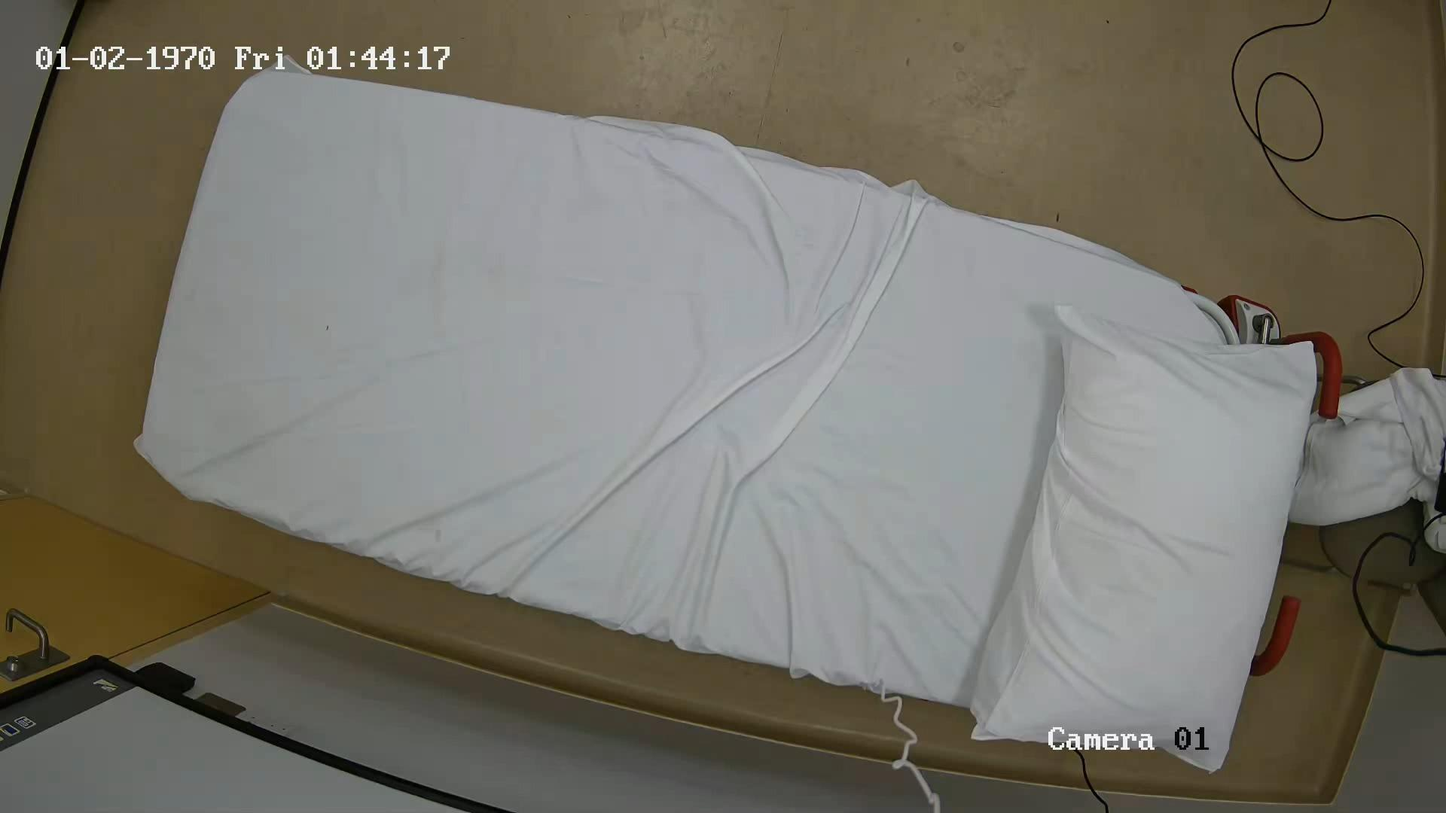bed: (135, 62, 1341, 770)
